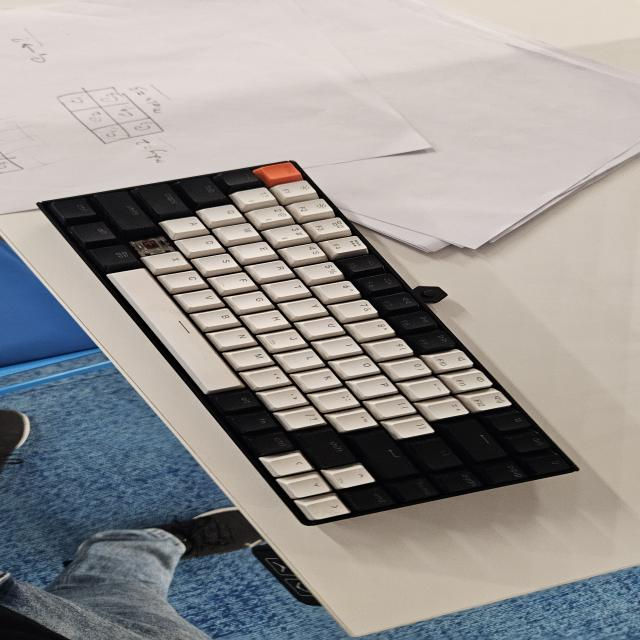C: (138, 236, 170, 252)
